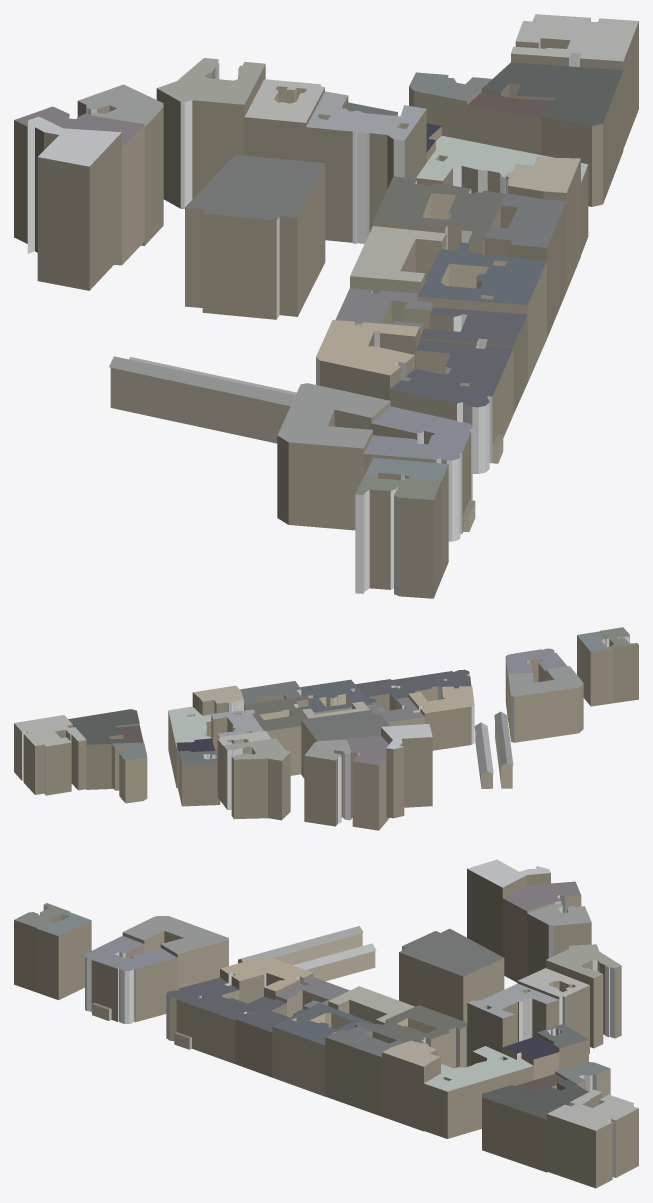
3 renders of one model, top to bottom at view 1: azimuth 30°, elevation 25°; view 2: azimuth 150°, elevation 25°; view 3: azimuth 270°, elevation 25°, orthographic. The views are drawn at different scales.
Parts seen in each view (by area): view 1: tuile; view 2: tuile; view 3: tuile.
Part boxes in pixels (bbox=[...]): tuile: bbox=[14, 14, 638, 598]; tuile: bbox=[14, 627, 638, 830]; tuile: bbox=[14, 859, 638, 1188].
Size of the model in its own units: 210 by 50.18 by 244.
